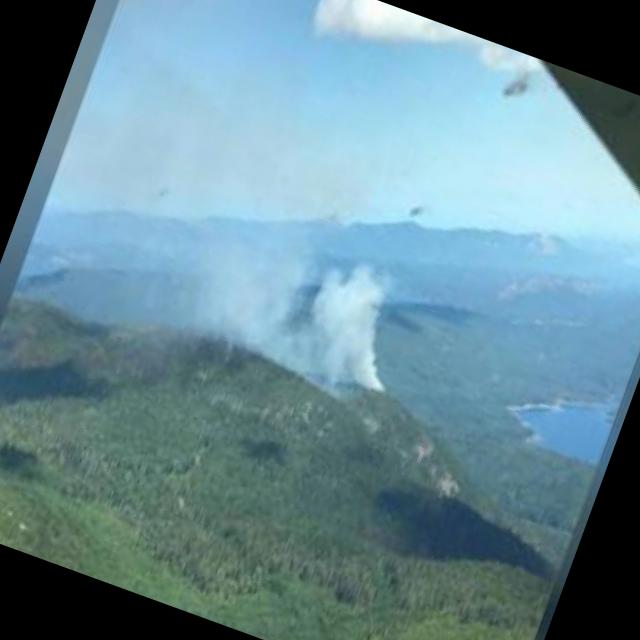smoke: (189, 200, 438, 422)
